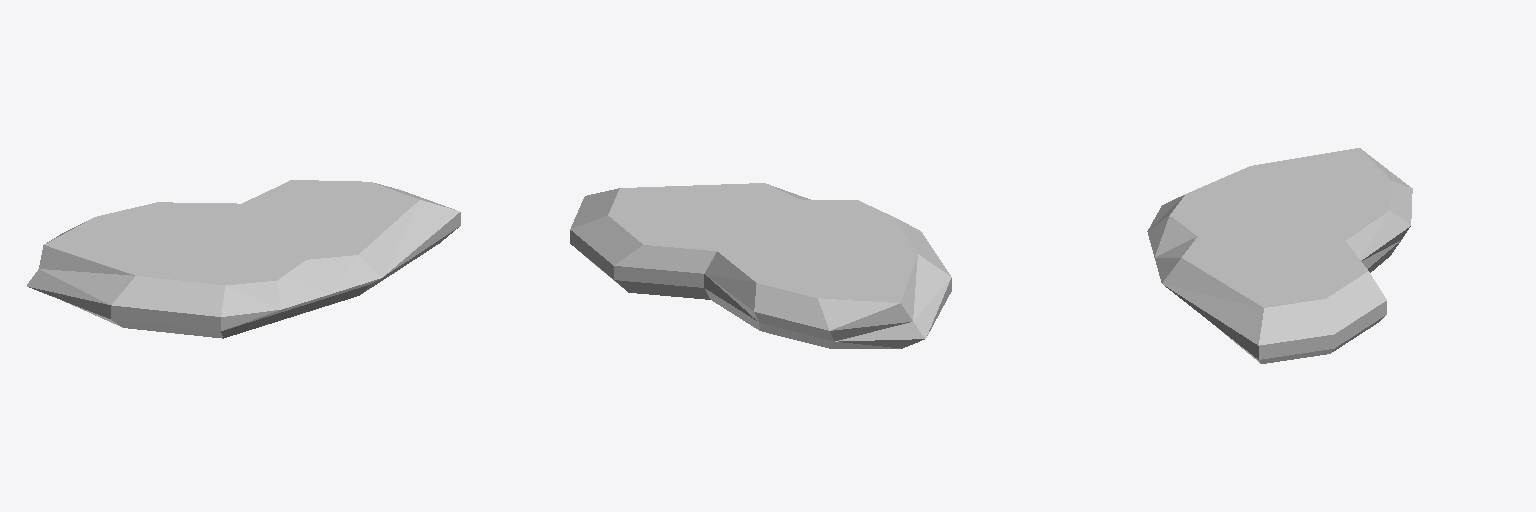
Rendered from rock.obj.
3 views of the same model, side by side, from view 1: azimuth 30°, elevation 25°; view 2: azimuth 150°, elevation 25°; view 3: azimuth 270°, elevation 25° (orthographic).
Visible parts, largest first — view 1: Rock_1; view 2: Rock_1; view 3: Rock_1.
Part boxes in pixels (x1,y1,x2,y2): Rock_1: (27,180,460,338); Rock_1: (570,183,951,348); Rock_1: (1147,148,1412,363).
Size of the model in its own units: 346 by 41.08 by 205.